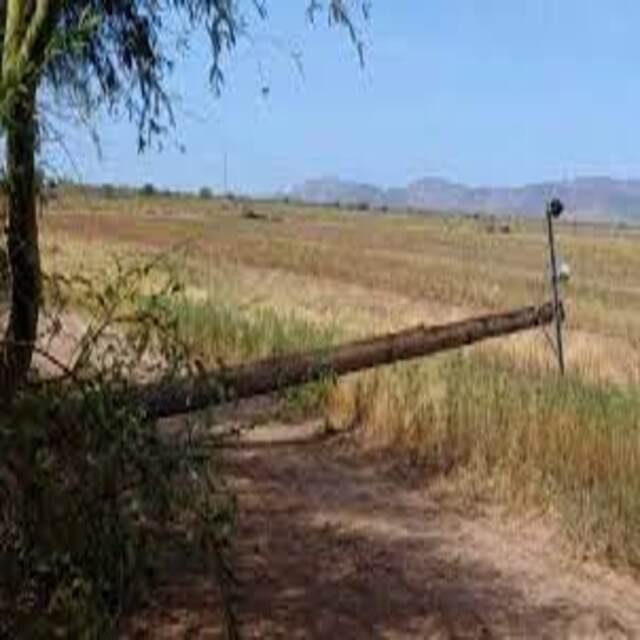Inclined Pole: (95, 192, 573, 433)
